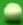white: (0, 0, 23, 25)
